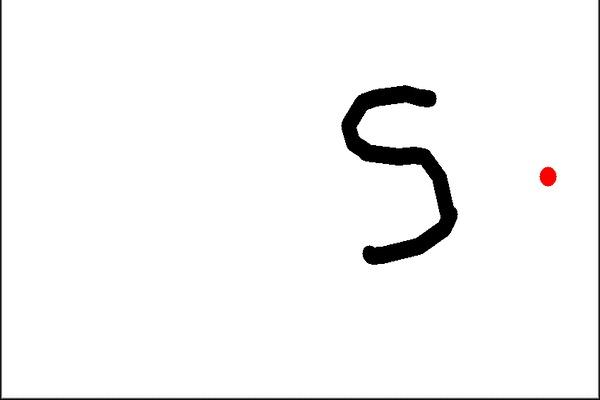S: (332, 79, 463, 270)
